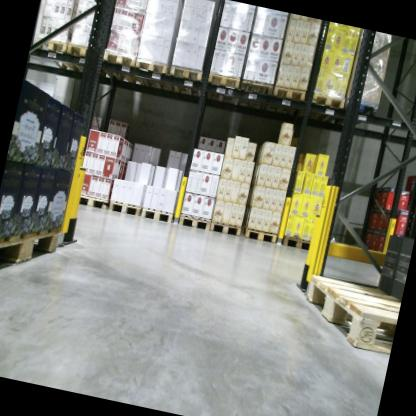pallet: (294, 270, 402, 361), (0, 210, 65, 296), (29, 30, 94, 81), (93, 43, 146, 92), (327, 91, 381, 138), (60, 37, 113, 84), (129, 53, 178, 99), (300, 88, 347, 134), (233, 75, 278, 117), (163, 59, 208, 101), (266, 80, 308, 123), (199, 71, 243, 111), (280, 233, 323, 255), (106, 193, 144, 217), (239, 224, 278, 246), (139, 203, 177, 225), (177, 211, 212, 233), (208, 220, 242, 239), (78, 193, 113, 211)
